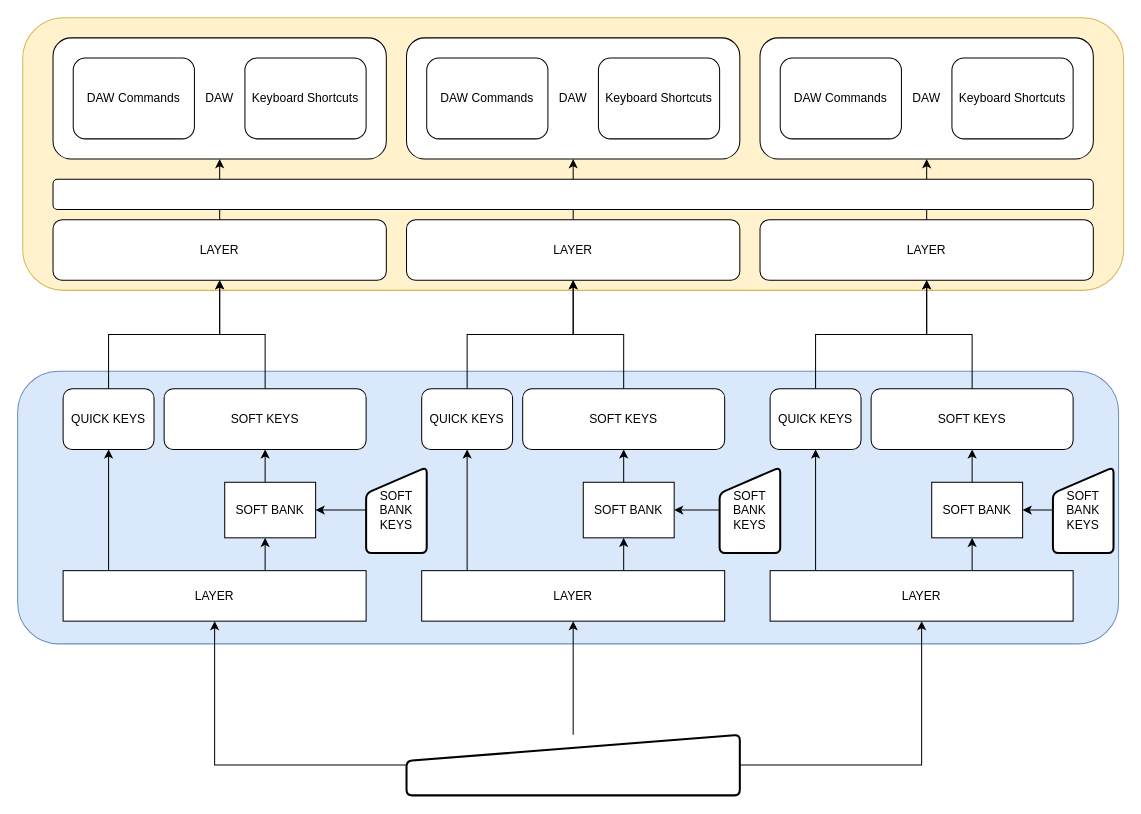
This 1141x814 diagram has some shape labels left out. Here are the shapes that lost their labels. From the top down, the box of each, then its label:
(52, 178, 1093, 210): S360 CONFIGURATION
(405, 733, 740, 796): LAYER KEYS
